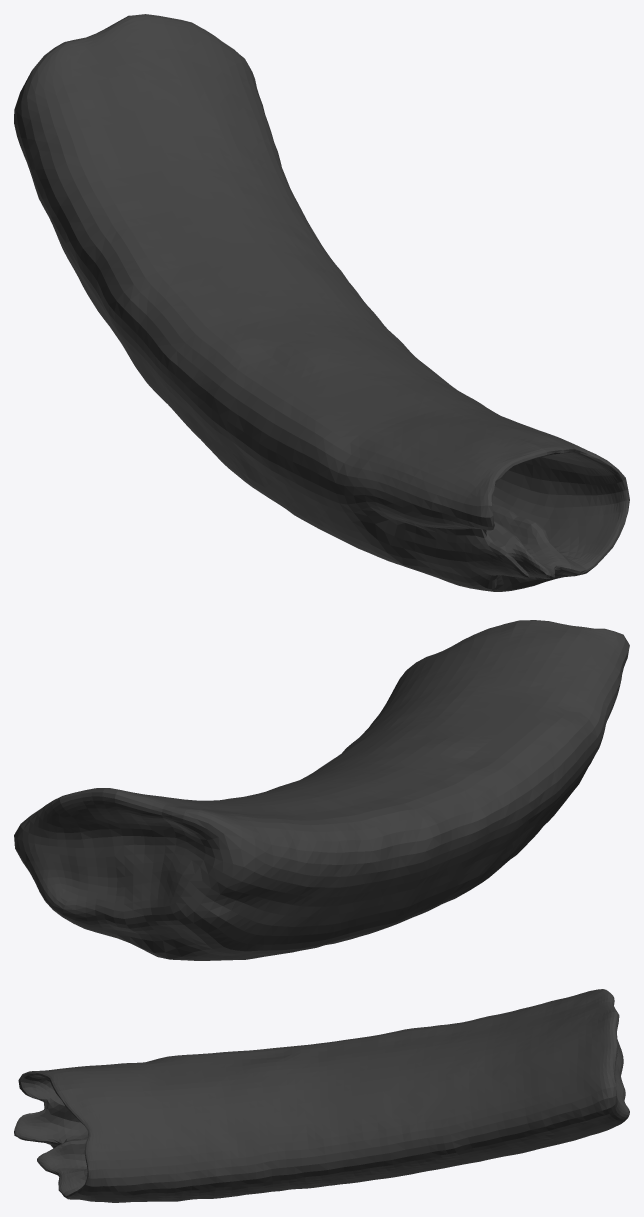
Rendered from tooth_rabbit_206_low.glb.
The picture shows the model from 3 angles, top to bottom: view 1: azimuth 30°, elevation 25°; view 2: azimuth 150°, elevation 25°; view 3: azimuth 270°, elevation 25°; orthographic projection. The views are drawn at different scales.
Visible parts, largest first — view 1: tooth_rabbit_206_low; view 2: tooth_rabbit_206_low; view 3: tooth_rabbit_206_low.
Boxes of the visible parts, x1,y1,x2,y2 form: tooth_rabbit_206_low: (14,14,629,591); tooth_rabbit_206_low: (14,620,629,960); tooth_rabbit_206_low: (14,989,629,1202).
Bounding box in the file's own units: 0.4024 × 0.3746 × 1.11.
1 material, 1 textured.
